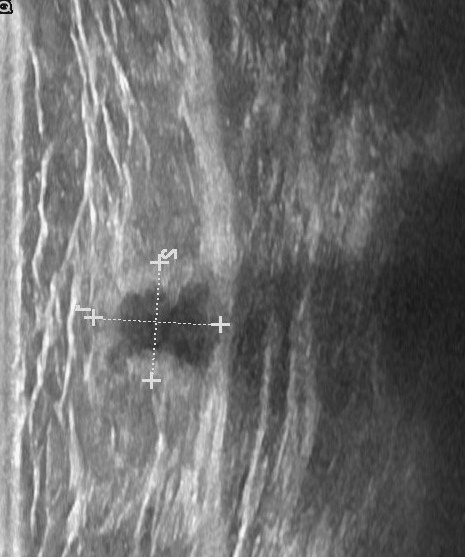Malignant: (113, 281, 224, 368)
